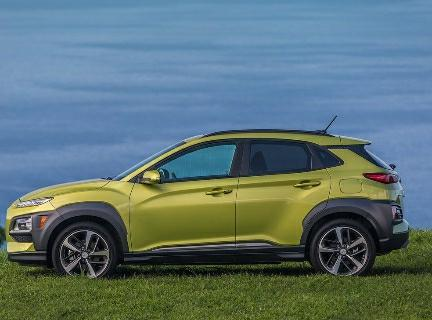car: (2, 117, 413, 284)
